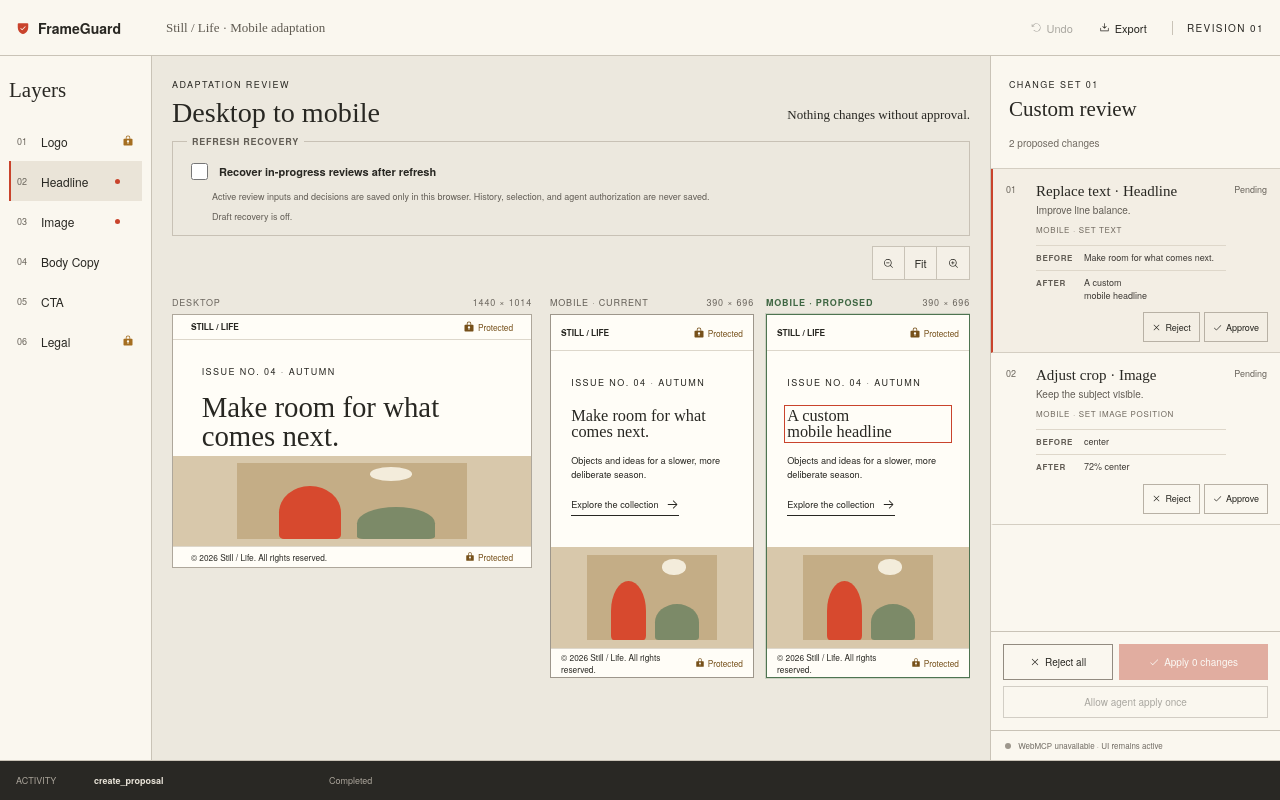
selects unchanged layers without retaining stale change details
Click the option with aria-label "Body Copy, no proposed changes".
click(58, 261)  # box left=17, top=252, right=100, bottom=270
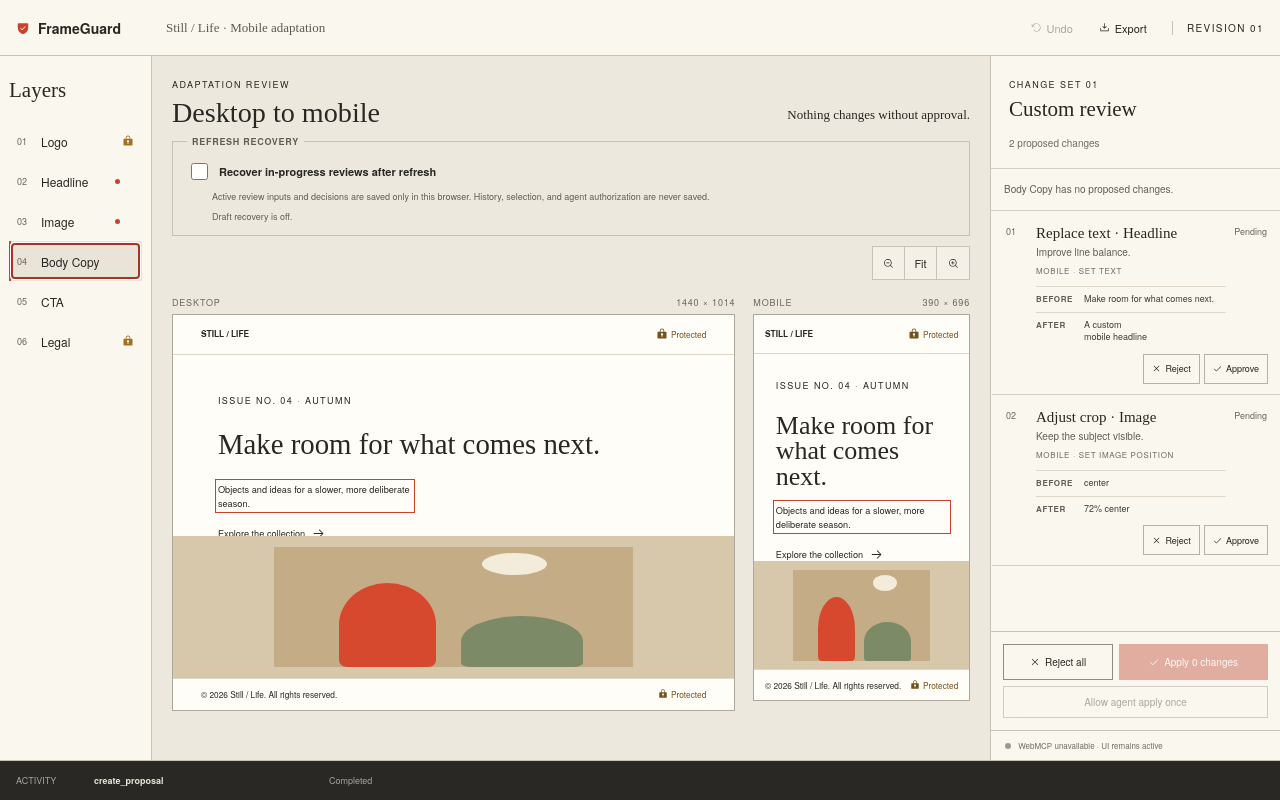
Expected: the number of elements named "Selected Body Copy layer" is 2, left=218, top=482, right=412, bottom=510; left=776, top=503, right=948, bottom=531
Expected: the text "Body Copy has no proposed changes." is shown, left=991, top=169, right=1279, bottom=210
